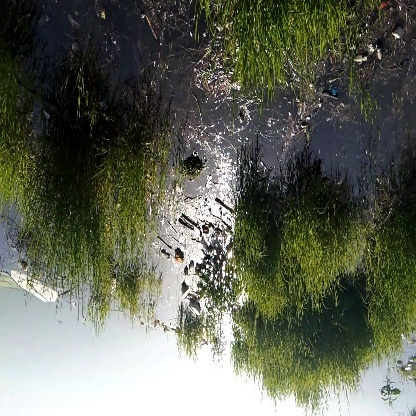plastic-bag: (9, 268, 61, 304)
